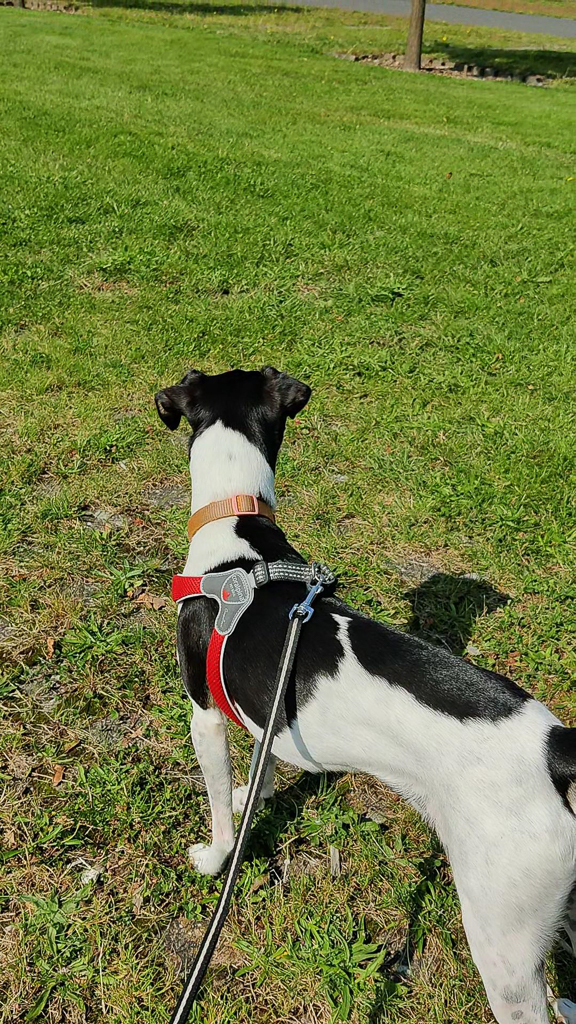Dog: (135, 347, 576, 1024)
